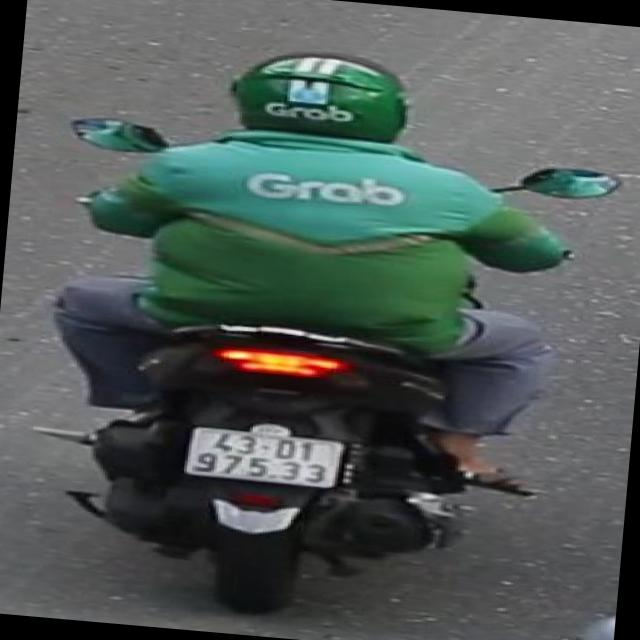LP: (180, 422, 352, 497)
helmet: (218, 40, 424, 163)
